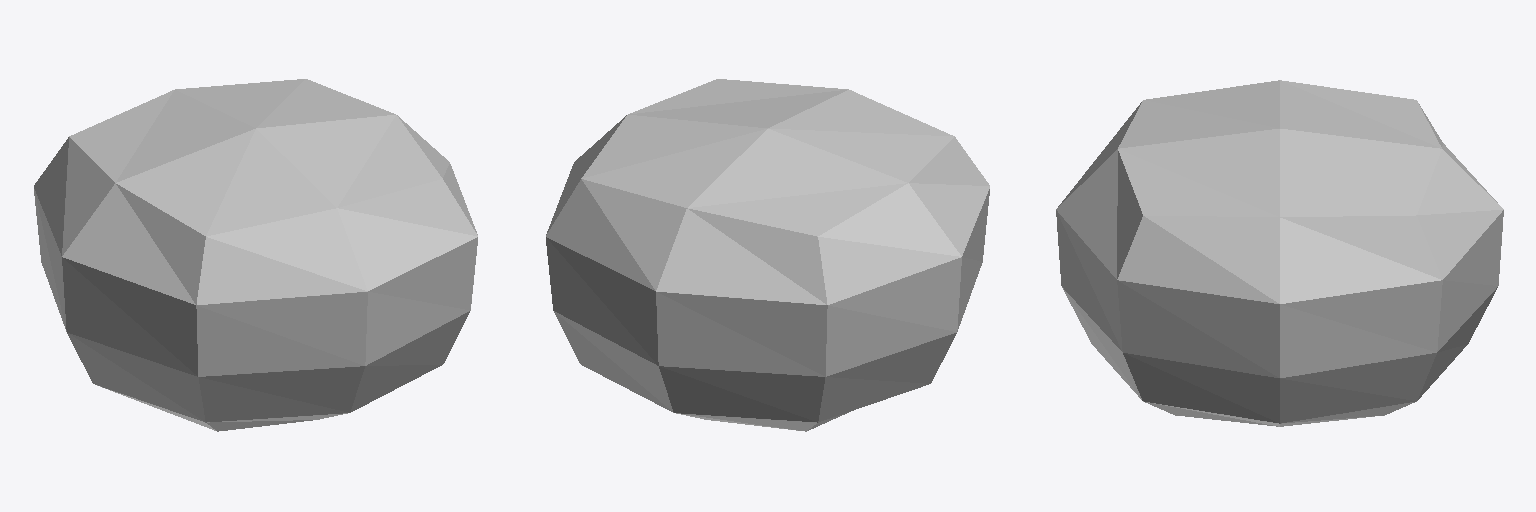
Rendered from dough_ball.obj.
3 renders of one model, left to right at view 1: azimuth 30°, elevation 25°; view 2: azimuth 150°, elevation 25°; view 3: azimuth 270°, elevation 25°, orthographic.
Visible parts, largest first — view 1: dough_ball; view 2: dough_ball; view 3: dough_ball.
Boxes of the visible parts, box(x1,y1,x2,y2) form: dough_ball: box(34, 79, 477, 431); dough_ball: box(546, 79, 989, 431); dough_ball: box(1056, 80, 1503, 426).
Size of the model in its own units: 0.3078 by 0.1933 by 0.3078.